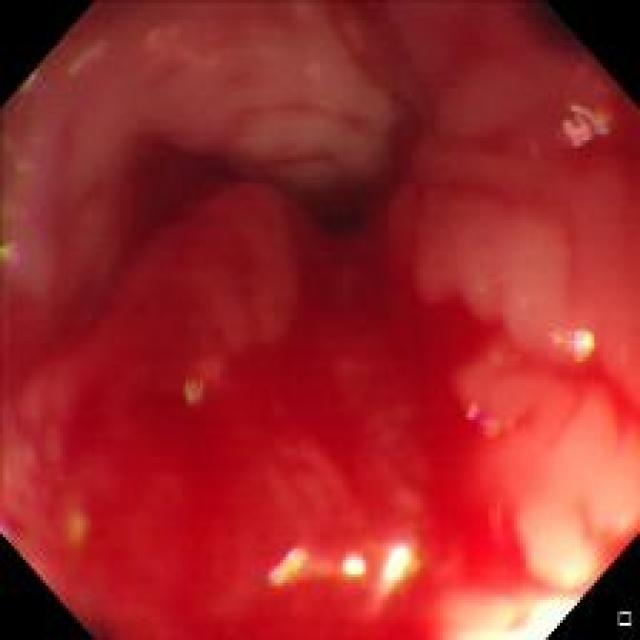blood: (0, 192, 540, 638), (541, 326, 636, 440), (575, 501, 631, 589)
color misalignment: (555, 95, 608, 149), (262, 540, 310, 582), (466, 400, 501, 434), (19, 66, 49, 102), (181, 374, 210, 410), (550, 329, 579, 355), (0, 232, 19, 268), (11, 200, 38, 224)
contrast: (302, 180, 389, 258)
saturation: (451, 565, 580, 636)
specularity: (384, 539, 408, 578), (341, 551, 365, 575), (581, 330, 592, 351)
